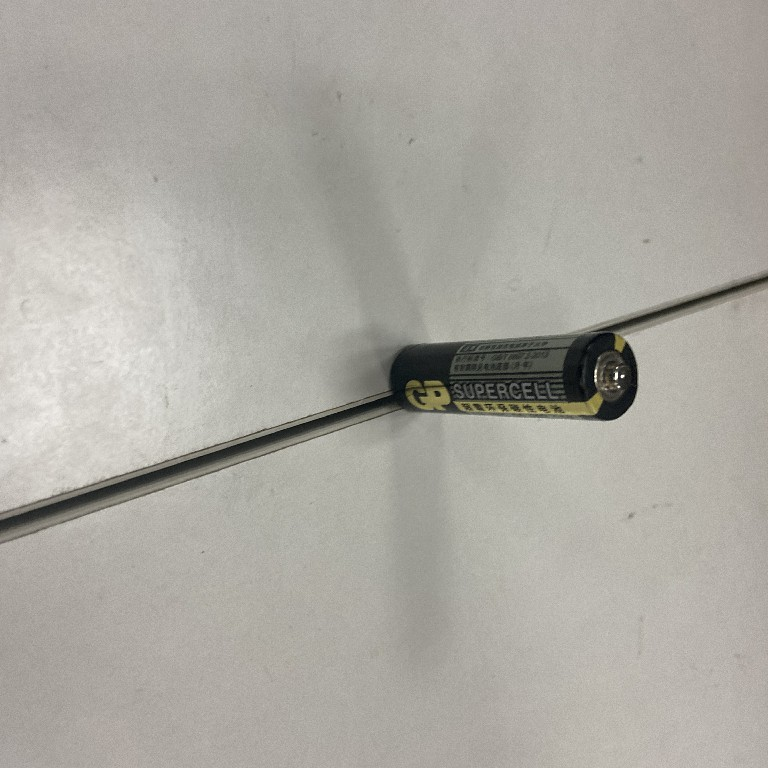charge: (388, 328, 642, 424)
